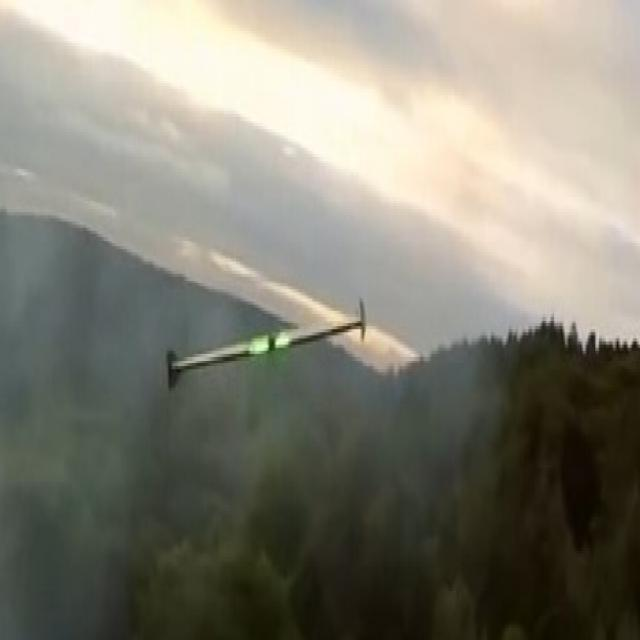iha: (155, 329, 367, 378)
